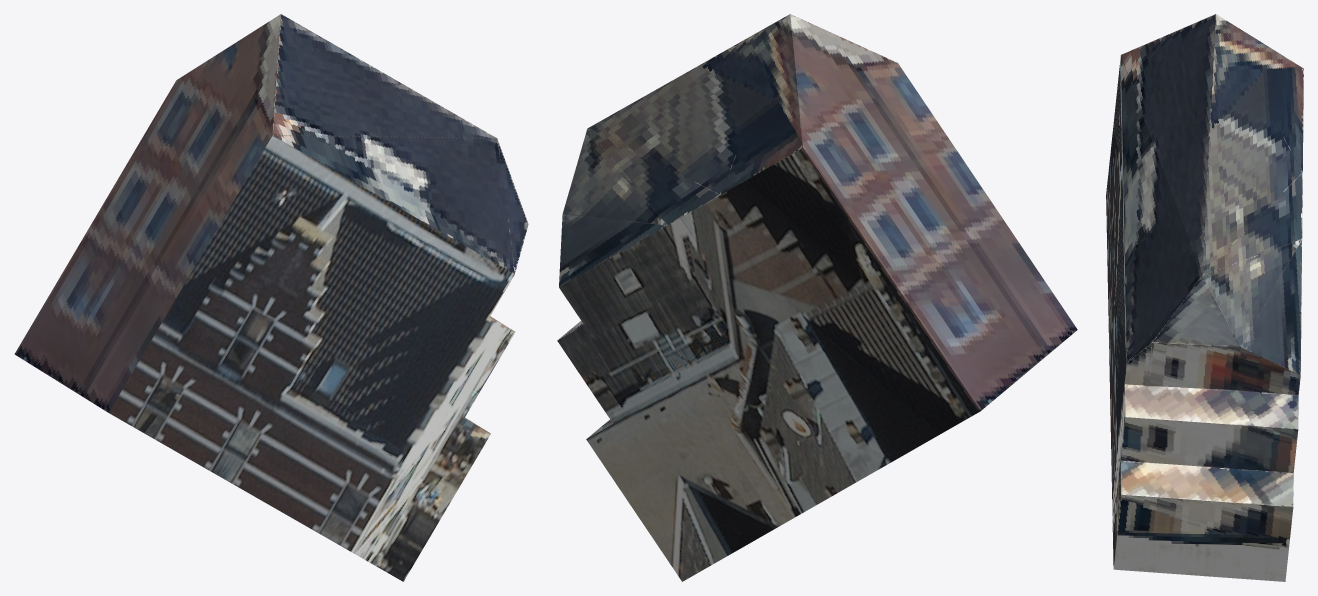
3 renders of one model, left to right at view 1: azimuth 30°, elevation 25°; view 2: azimuth 150°, elevation 25°; view 3: azimuth 270°, elevation 25°, orthographic. The views are drawn at different scales.
Visible parts, largest first — view 1: BAG_0599100000671811 (×2); view 2: BAG_0599100000671811 (×2); view 3: BAG_0599100000671811 (×2).
Boxes of the visible parts, x1,y1,x2,y2 form: BAG_0599100000671811 (×2): (14, 14, 528, 581); BAG_0599100000671811 (×2): (557, 14, 1077, 581); BAG_0599100000671811 (×2): (1106, 14, 1303, 581).
Bounding box in the file's own units: 16.46 × 19.74 × 6.62.
Materials: 2 (2 with a texture image).
